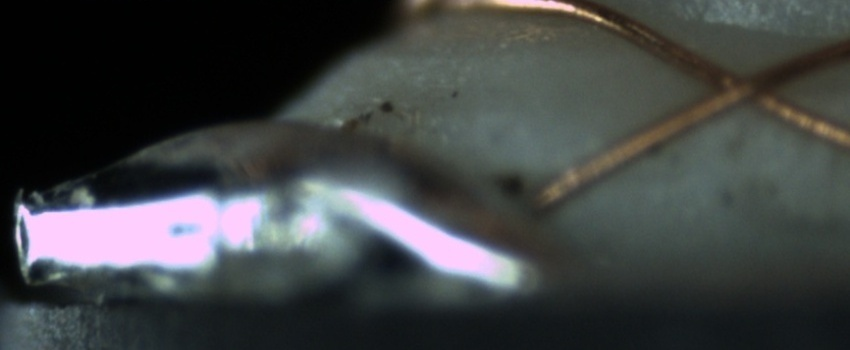CL: (692, 49, 799, 120)
